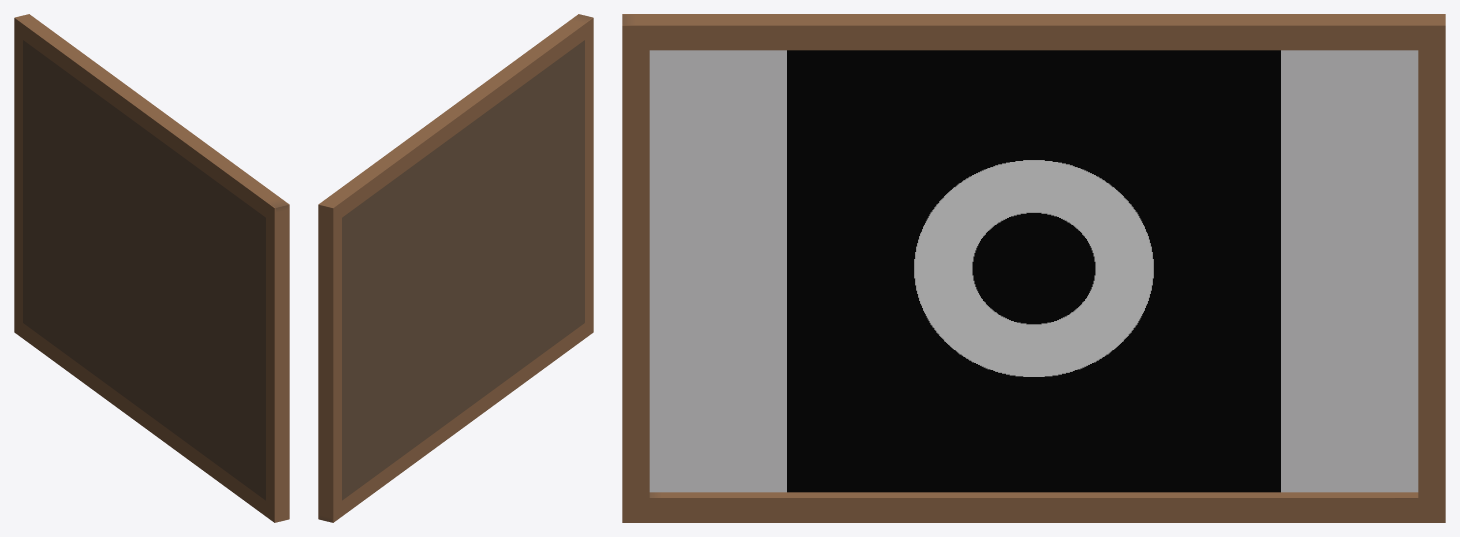
Rendered from posterboard.fbx.
3 views of the same model, side by side, from view 1: azimuth 30°, elevation 25°; view 2: azimuth 150°, elevation 25°; view 3: azimuth 270°, elevation 25° (orthographic). The views are drawn at different scales.
Visible parts, largest first — view 1: posterboard; view 2: posterboard; view 3: posterboard.
Boxes of the visible parts, box(x1,y1,x2,y2) form: posterboard: box(14, 14, 289, 522); posterboard: box(318, 14, 593, 522); posterboard: box(622, 14, 1445, 522).
Bounding box in the file's own units: 10 × 200 × 300.
